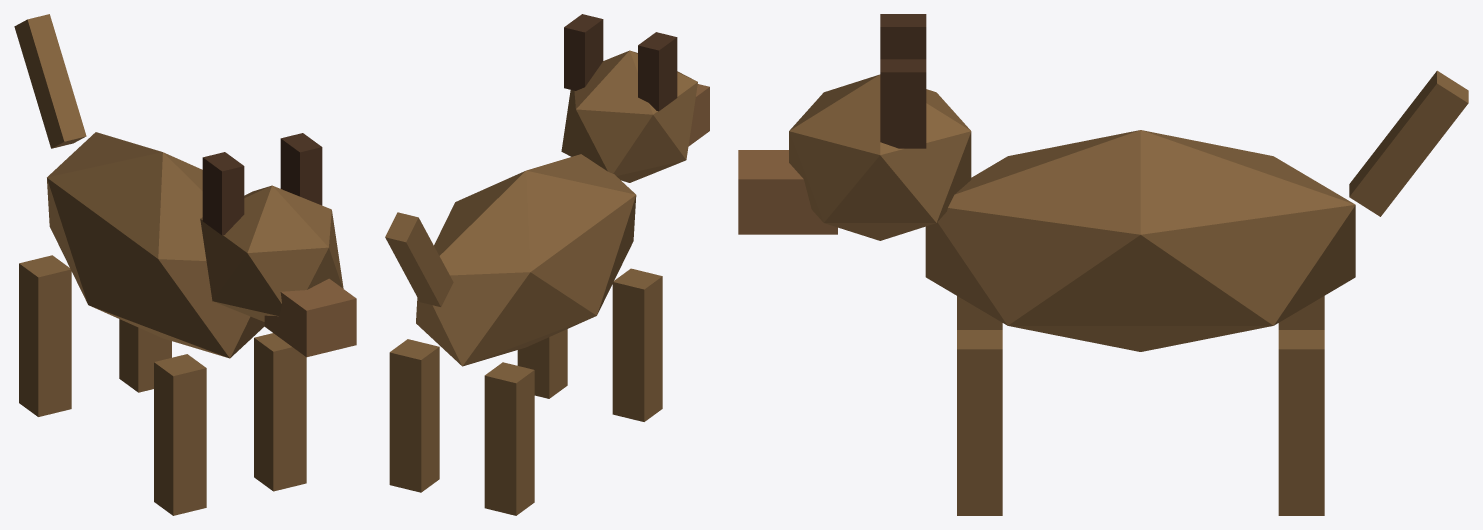
The model's file is prop_dog.glb.
3 renders of one model, left to right at view 1: azimuth 30°, elevation 25°; view 2: azimuth 150°, elevation 25°; view 3: azimuth 270°, elevation 25°, orthographic. The views are drawn at different scales.
Parts seen in each view (by area): view 1: prop_dog; view 2: prop_dog; view 3: prop_dog.
Boxes of the visible parts, x1,y1,x2,y2 form: prop_dog: (14,14,356,515); prop_dog: (385,14,709,515); prop_dog: (738,14,1468,515).
Size of the model in its own units: 0.2683 by 0.625 by 0.9528.
